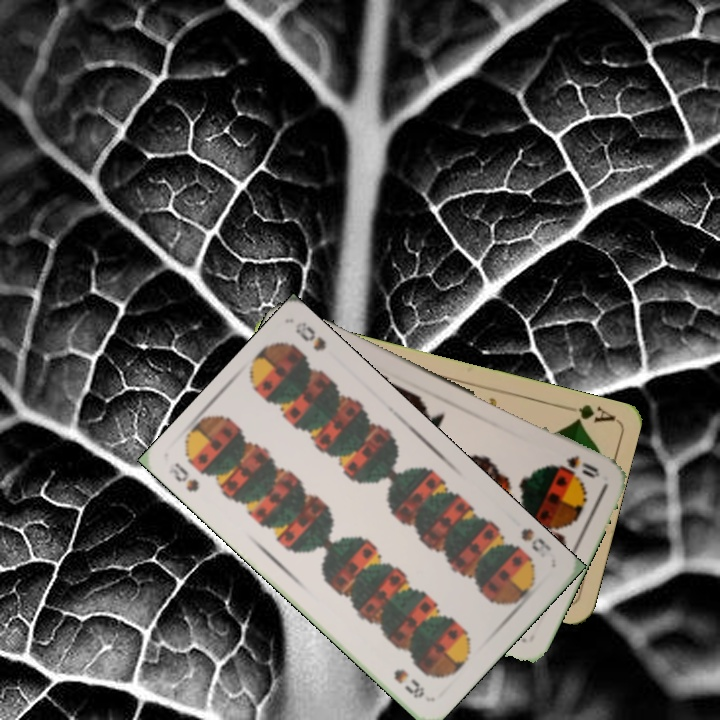GA: (558, 400, 617, 427)
S8: (164, 458, 202, 494), (516, 524, 554, 555)
SO: (562, 451, 603, 481)
